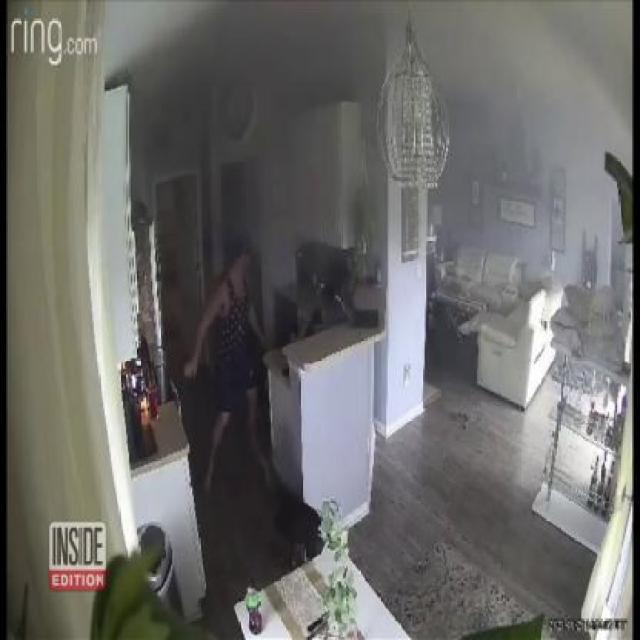smoke: (446, 15, 629, 132), (129, 8, 357, 100)
